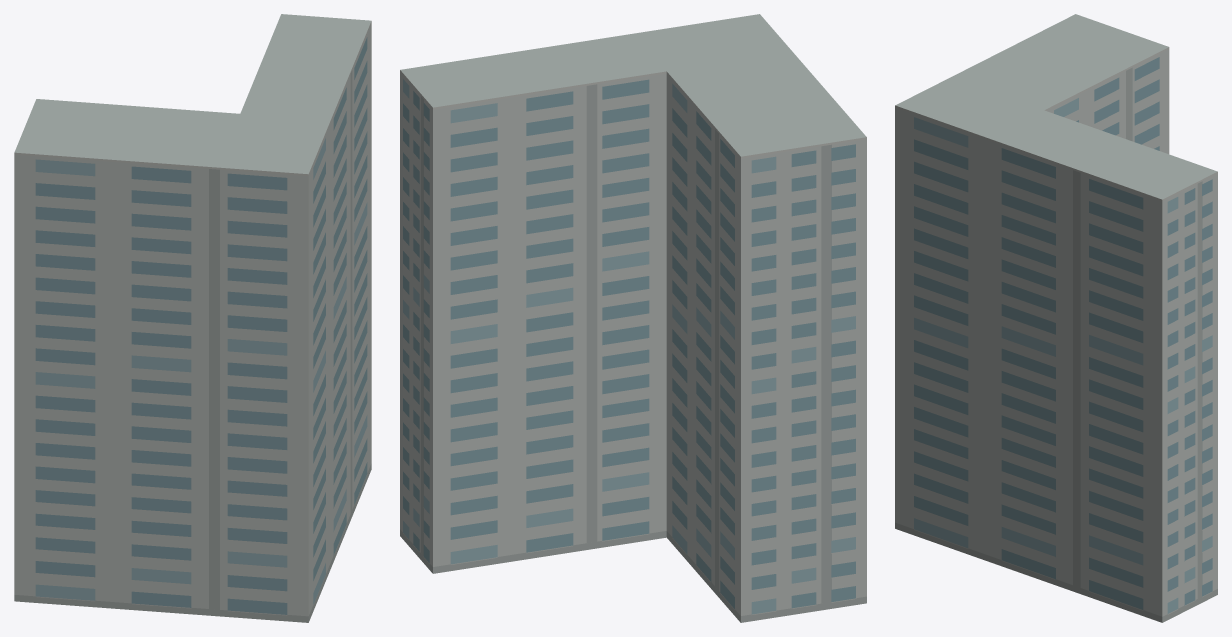
Rendered from residential-6a2f3cb0-24e6-404d-80ef-d9e844c68762.glb.
3 views of the same model, side by side, from view 1: azimuth 30°, elevation 25°; view 2: azimuth 150°, elevation 25°; view 3: azimuth 270°, elevation 25° (orthographic). The views are drawn at different scales.
Parts seen in each view (by area): view 1: residential-6a2f3cb0-24e6-404d-80ef-d9e844c68762.tmp; view 2: residential-6a2f3cb0-24e6-404d-80ef-d9e844c68762.tmp; view 3: residential-6a2f3cb0-24e6-404d-80ef-d9e844c68762.tmp.
Boxes of the visible parts, left/top/right/bottom form: residential-6a2f3cb0-24e6-404d-80ef-d9e844c68762.tmp: left=14, top=14, right=371, bottom=622; residential-6a2f3cb0-24e6-404d-80ef-d9e844c68762.tmp: left=400, top=14, right=866, bottom=622; residential-6a2f3cb0-24e6-404d-80ef-d9e844c68762.tmp: left=895, top=14, right=1217, bottom=622.
Size of the model in its own units: 50.79 by 54 by 37.31.
